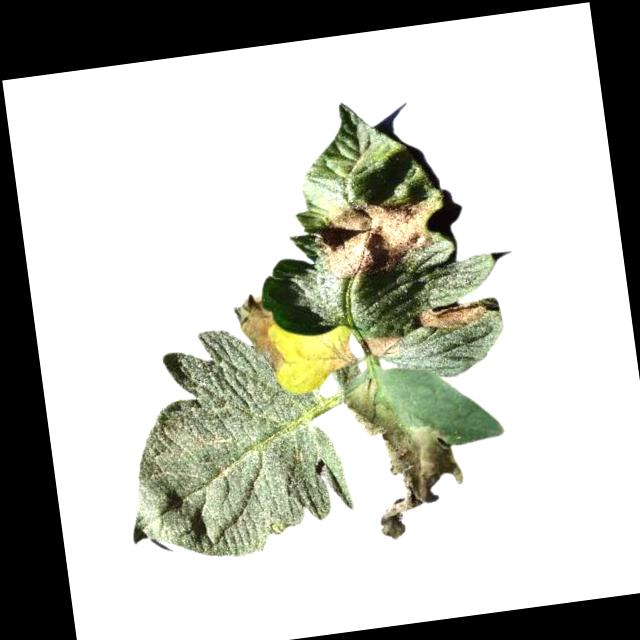Late_blight: (343, 369, 468, 543), (306, 188, 446, 286), (233, 292, 287, 378), (414, 295, 488, 336), (320, 336, 359, 375), (360, 330, 406, 358)
